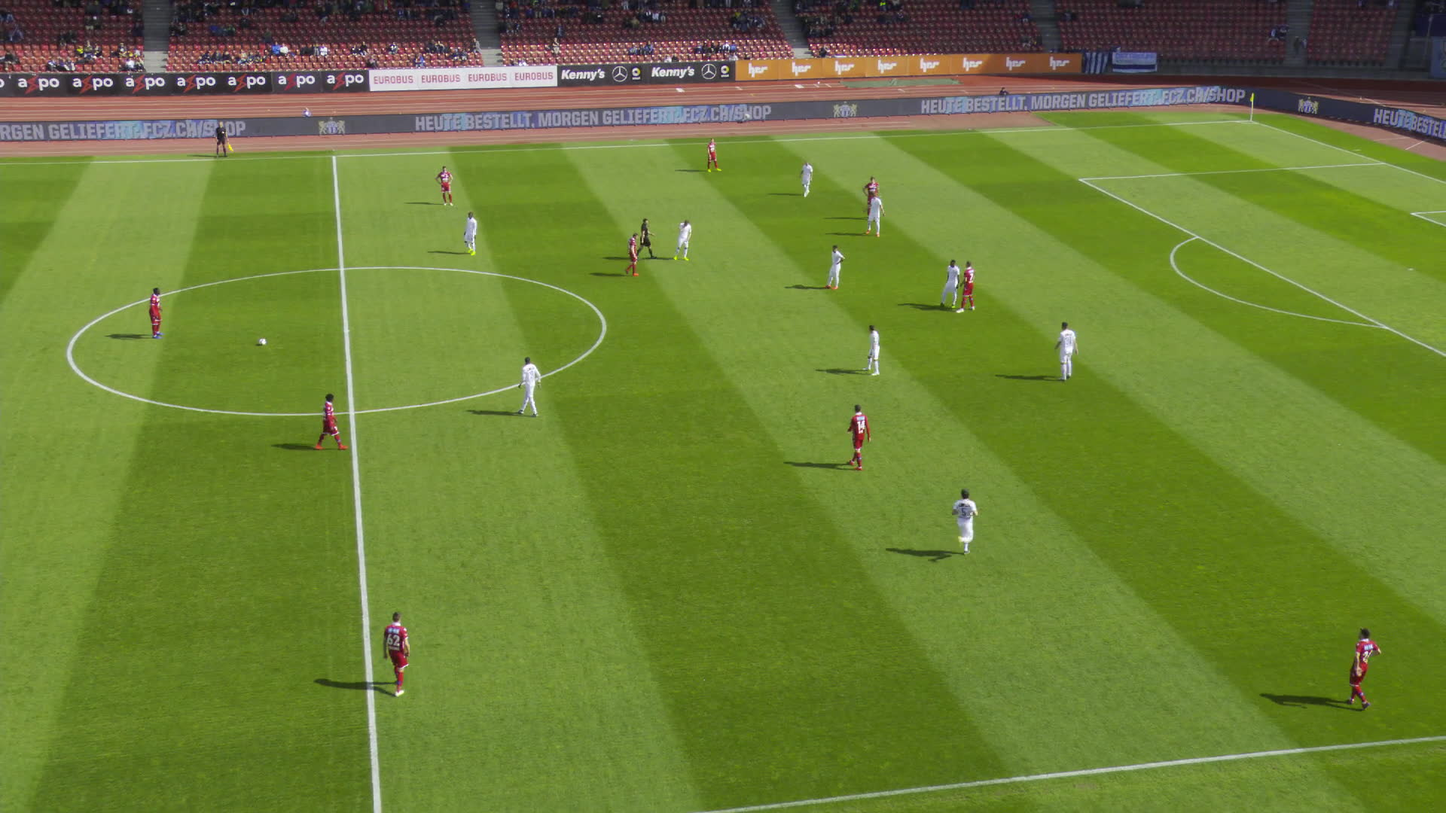ball: (259, 337, 267, 344)
player: (1332, 621, 1379, 710), (377, 607, 419, 694), (939, 485, 973, 564), (313, 390, 346, 452), (515, 352, 545, 416), (843, 400, 868, 469), (145, 282, 172, 344), (1051, 319, 1078, 381), (953, 258, 977, 312), (860, 322, 883, 373), (821, 242, 844, 291), (459, 210, 482, 257), (860, 191, 883, 237), (938, 256, 957, 308), (435, 165, 458, 207), (859, 176, 880, 218), (623, 231, 640, 278), (676, 216, 692, 262), (795, 158, 813, 198), (703, 136, 719, 175)
referee: (212, 120, 233, 160), (636, 214, 651, 259)
